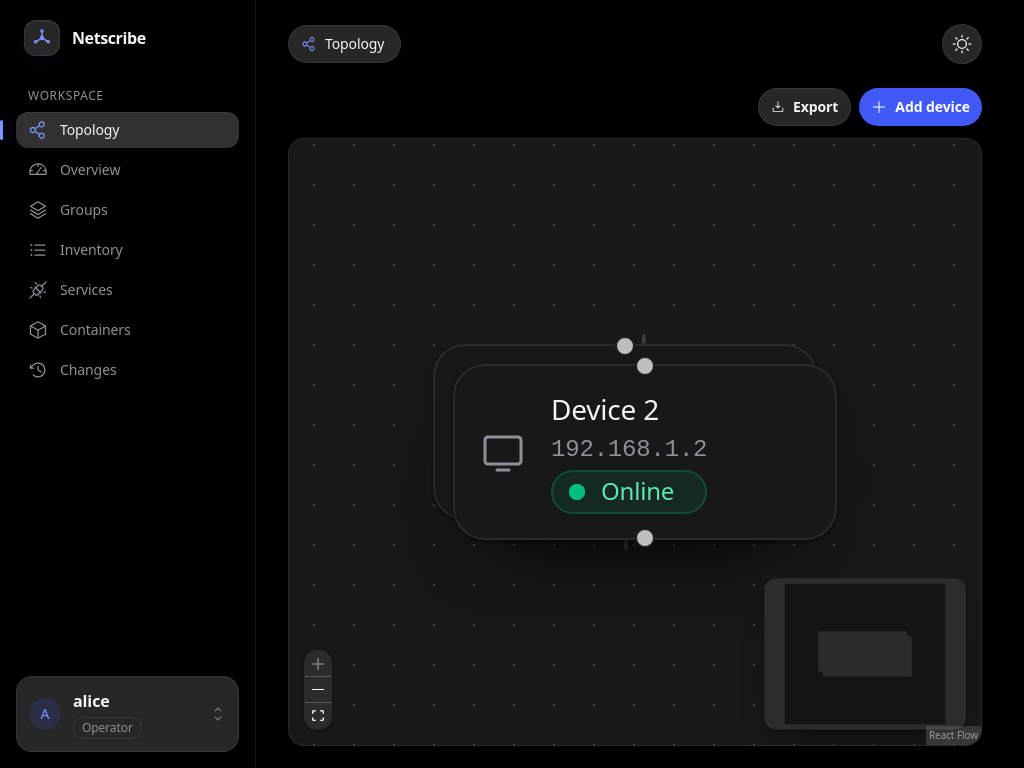
Test: adding a device › says that the address is taken
This screenshot has width=1024, height=768.
Click the button "Add device": coordinates (921, 107) [859,88,982,126]
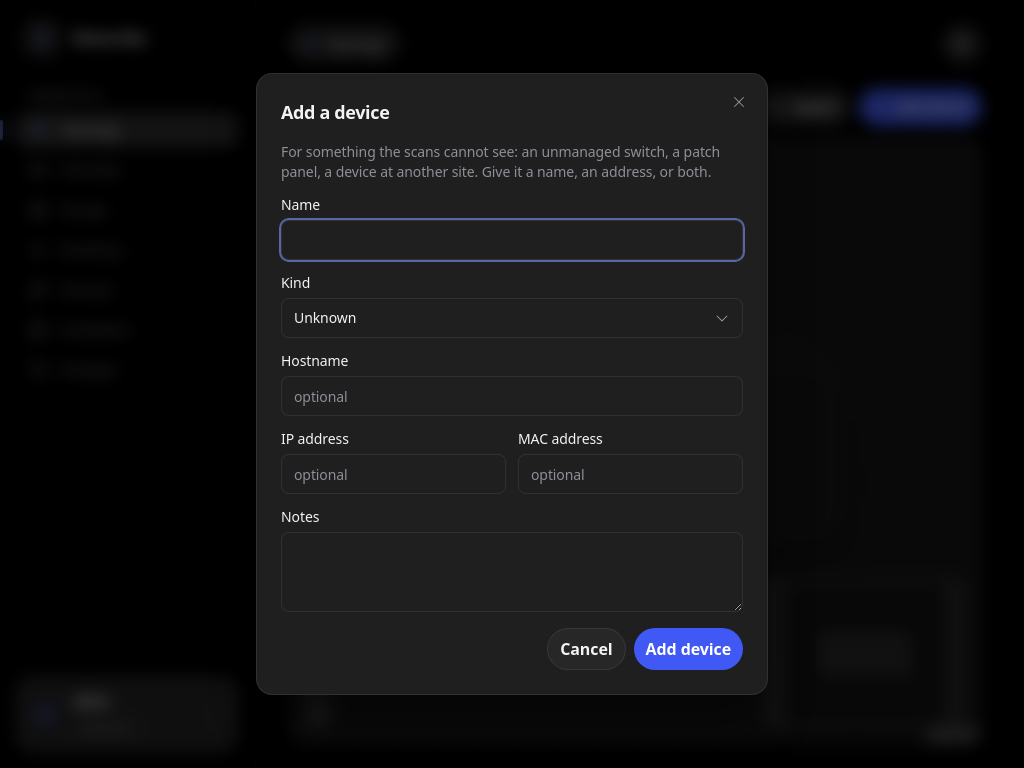
In the field labelled "IP address": coordinates (394, 474) [281,454,506,494], type "192.168.1.2"
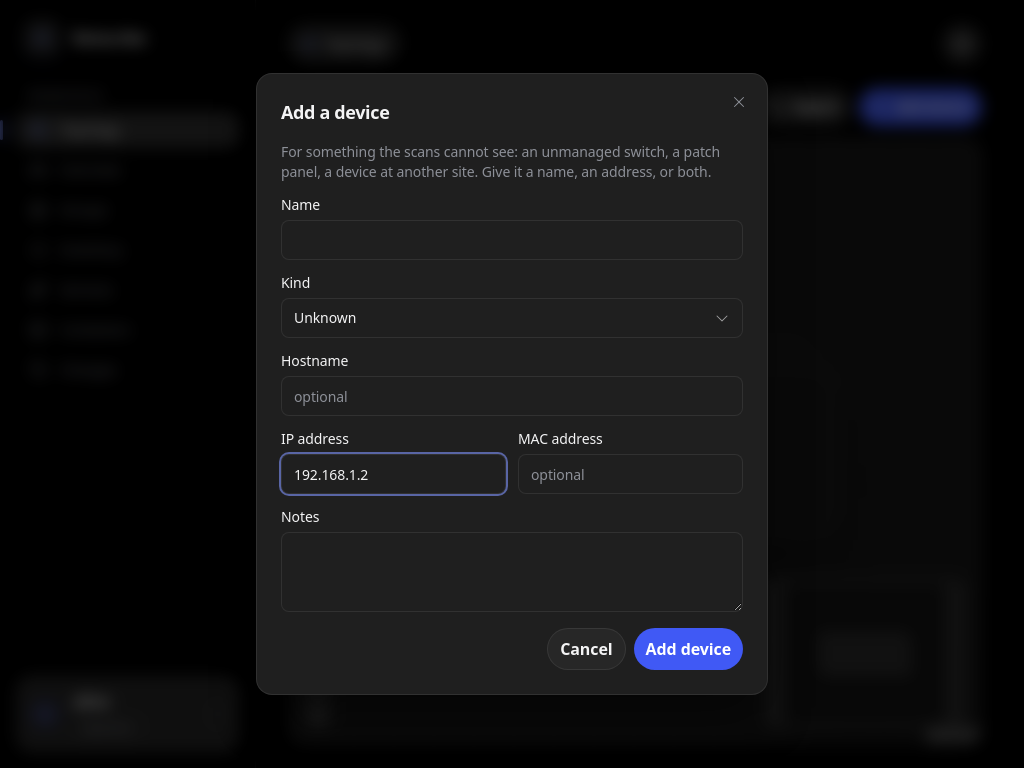
Click the button "Add device": coordinates (688, 649) [634,628,743,670]
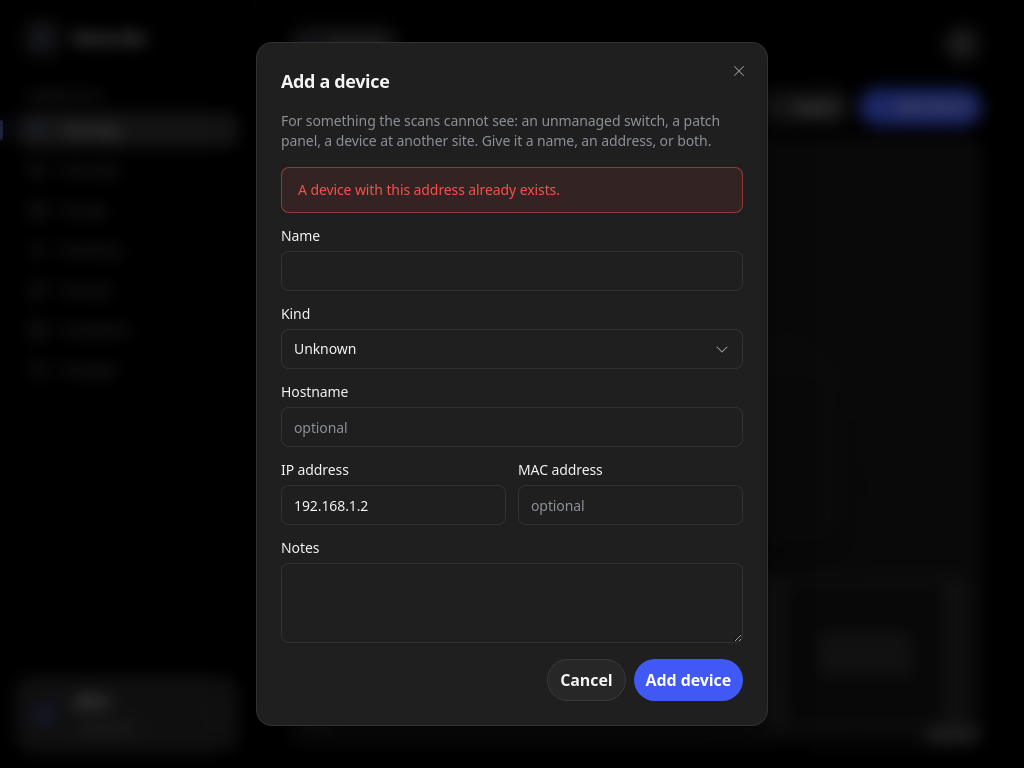
Now the message reads "A device with this address already exists.", box [298,180,560,199]
